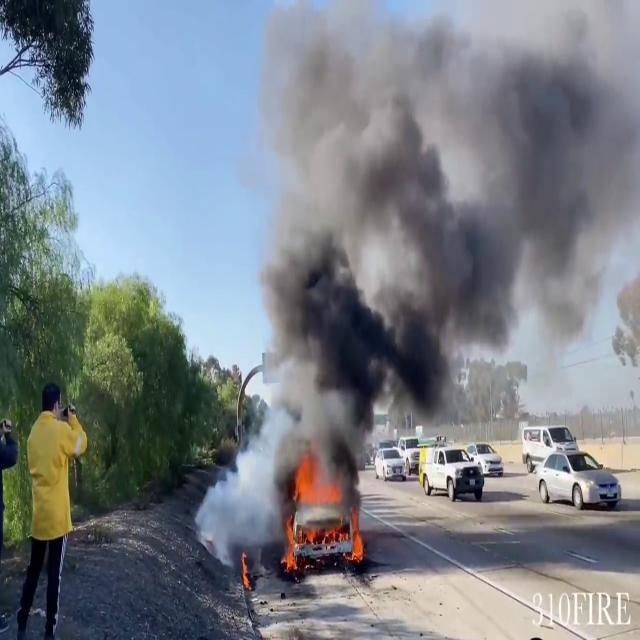Fire: (278, 458, 368, 574)
Smoke: (206, 0, 640, 552)
